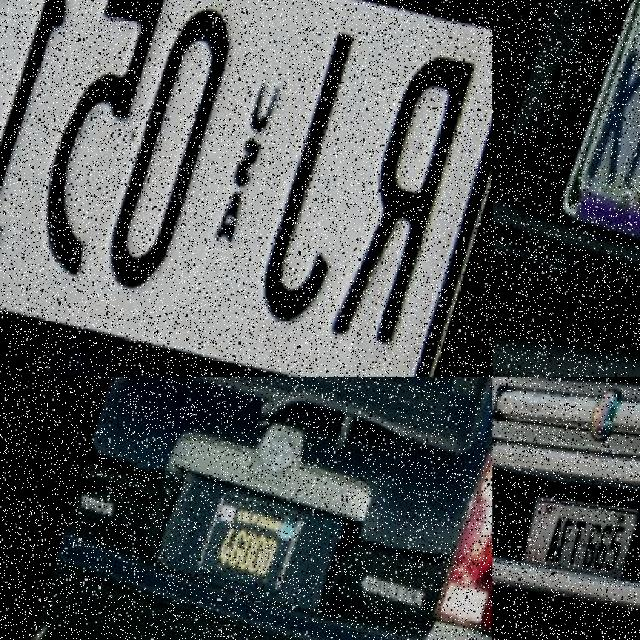licenseplate: (0, 0, 492, 369), (566, 0, 640, 289), (195, 490, 308, 604), (515, 490, 640, 592)
